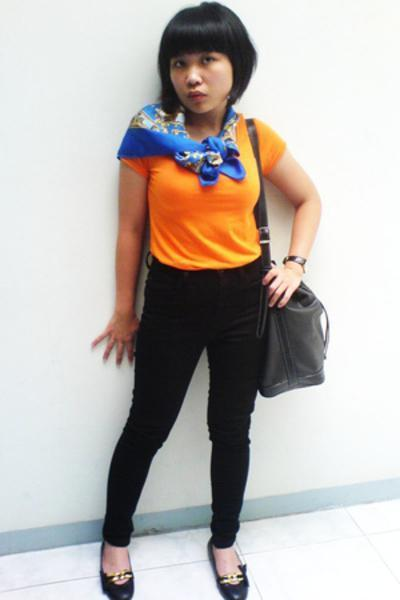bag: (245, 119, 328, 395)
pants: (102, 257, 275, 555)
shirt: (132, 119, 296, 280)
shoe: (100, 532, 248, 599)
